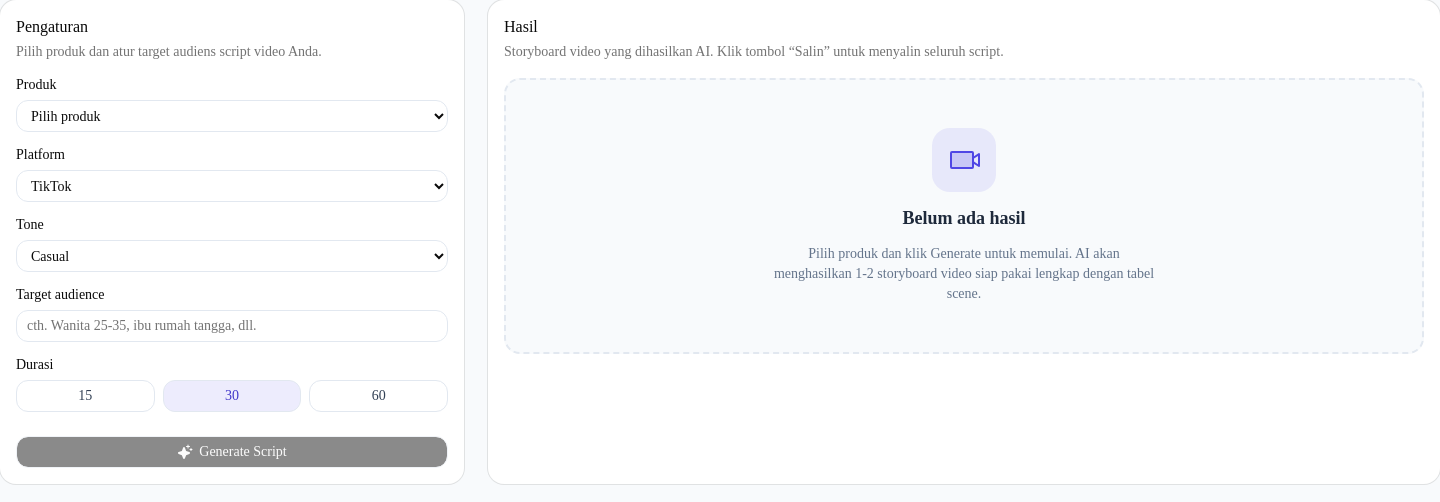
ScriptGenerator › renders a scene table (Waktu, Visual, Audio, Teks) when generateScripts returns results
Select "Sample Product A" in the dropdown labelled "Produk" at (232, 116), box 16,100 -> 448,132
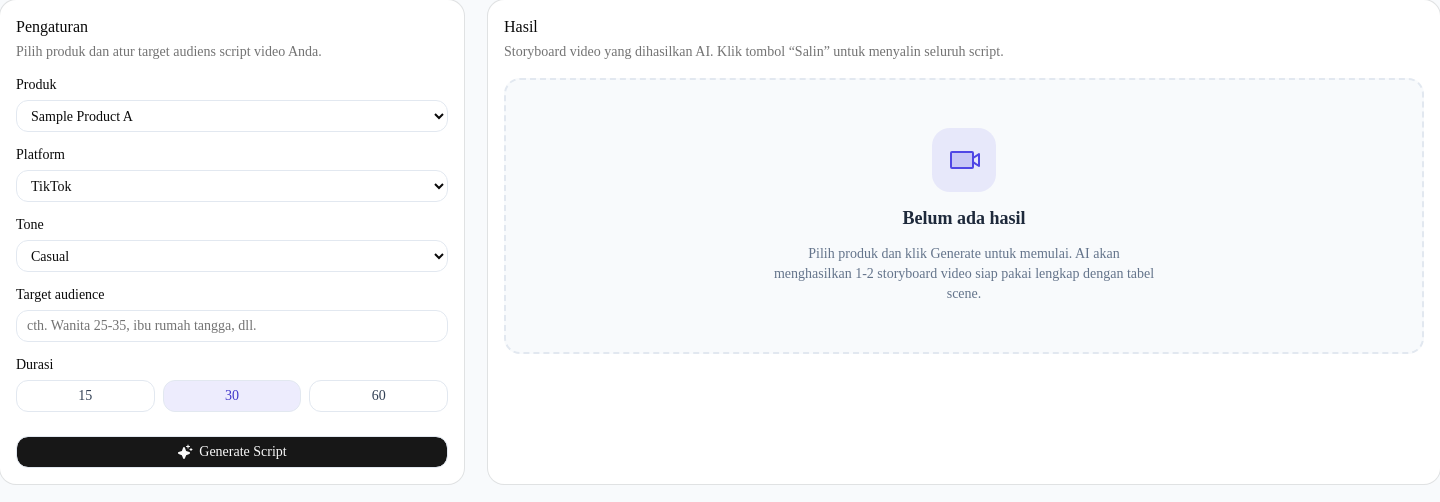
Click the button "Generate Script" at (232, 452), box 16,436 -> 448,468
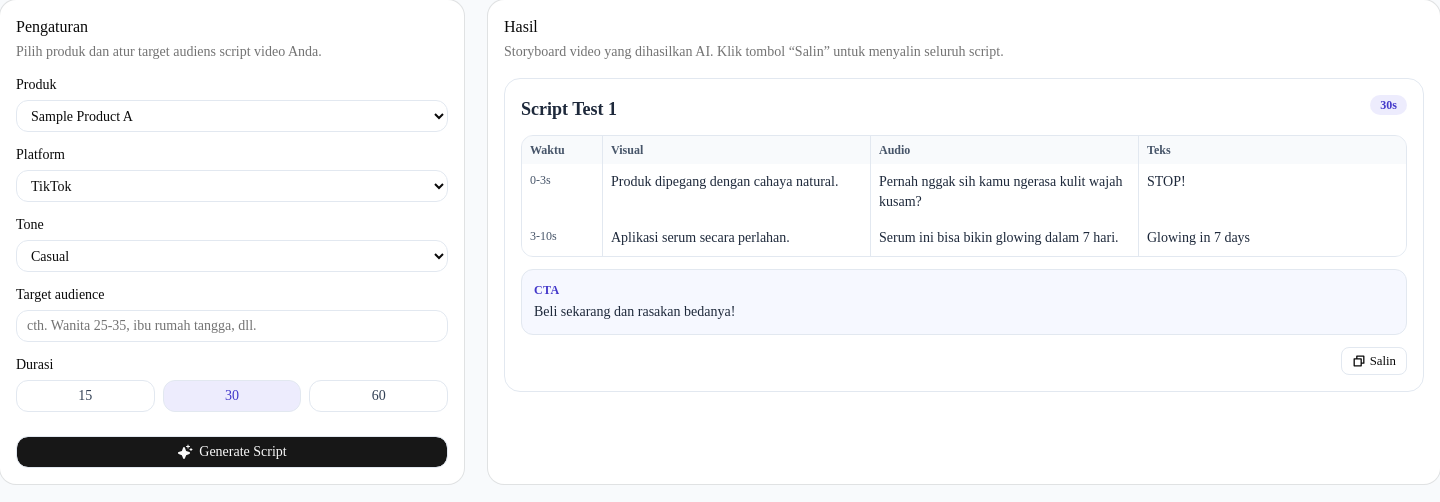
Check: the heading "Script Test 1" is shown, box 521,95 -> 617,123
Check: the text "30s" is shown, box 1370,95 -> 1407,115
Check: the text "Waktu" is shown, box 522,136 -> 602,164
